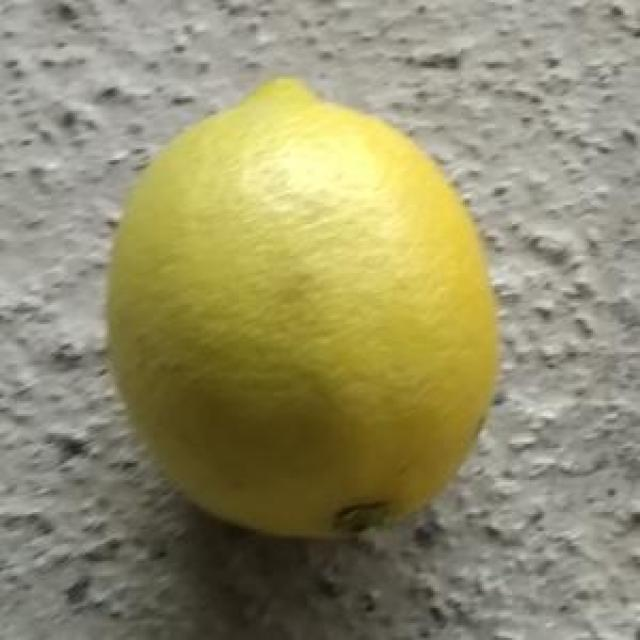lemon: (101, 77, 507, 548)
